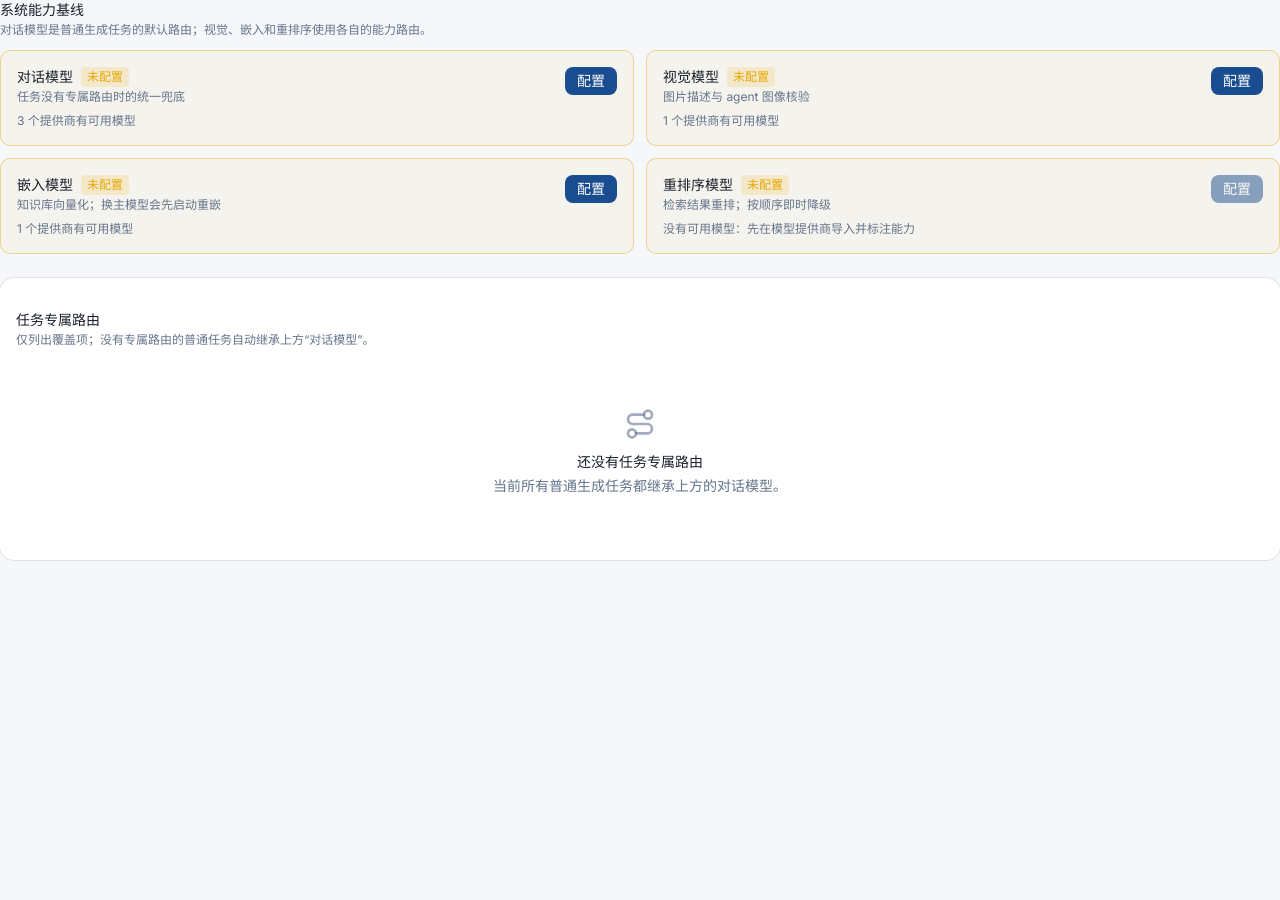
Test case: AdminModelsPage system capability boards › shows model capabilities in the catalog selector without free-text input
Expected: the button "配置" in the row of "知识库向量化；换主模型会先启动重嵌" is enabled, [565,175,617,203]
Click the button "配置" in the row of "图片描述与 agent 图像核验": (1237, 81) [1211,67,1263,95]
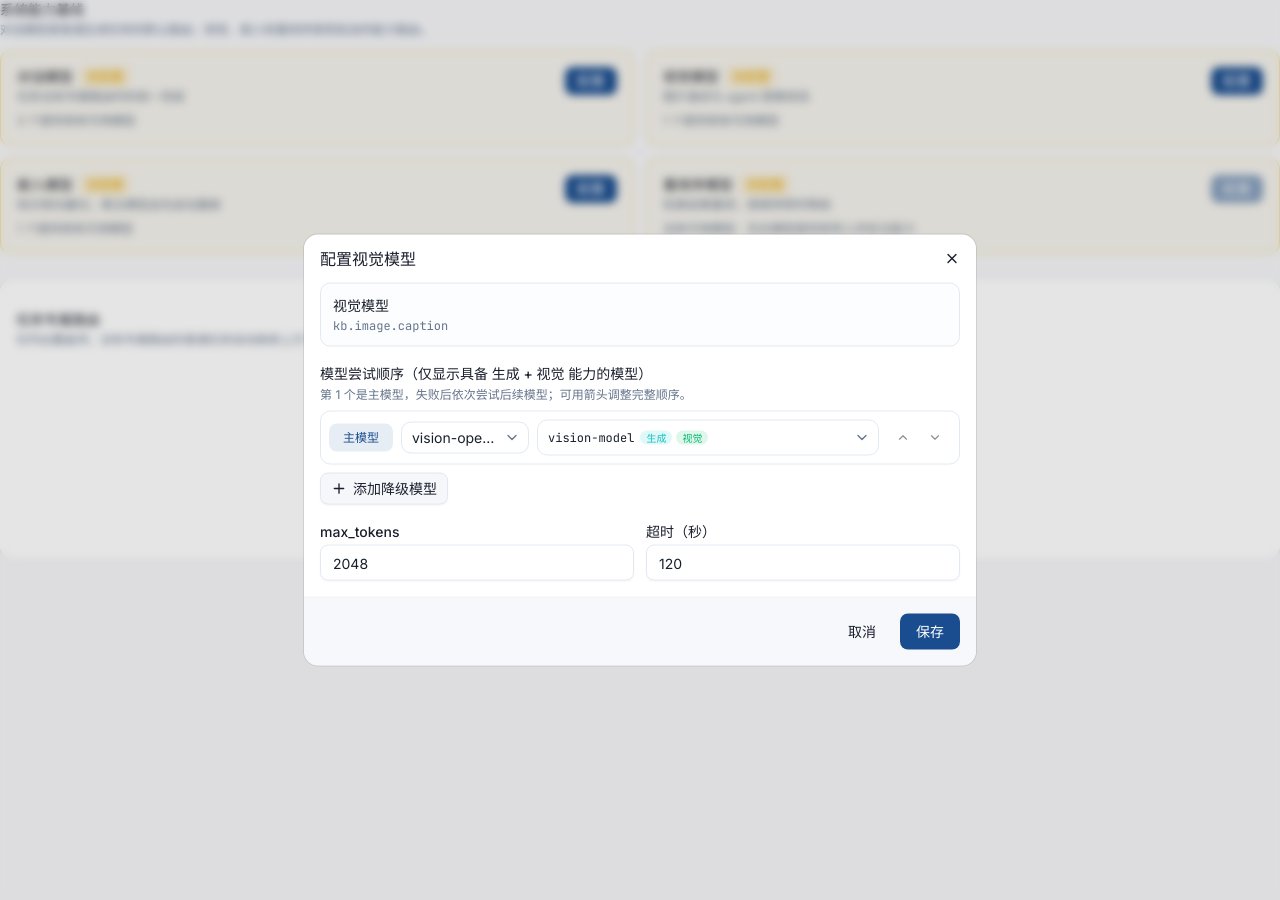
Click the dropdown named "主模型选择": (708, 438) [537,420,879,456]
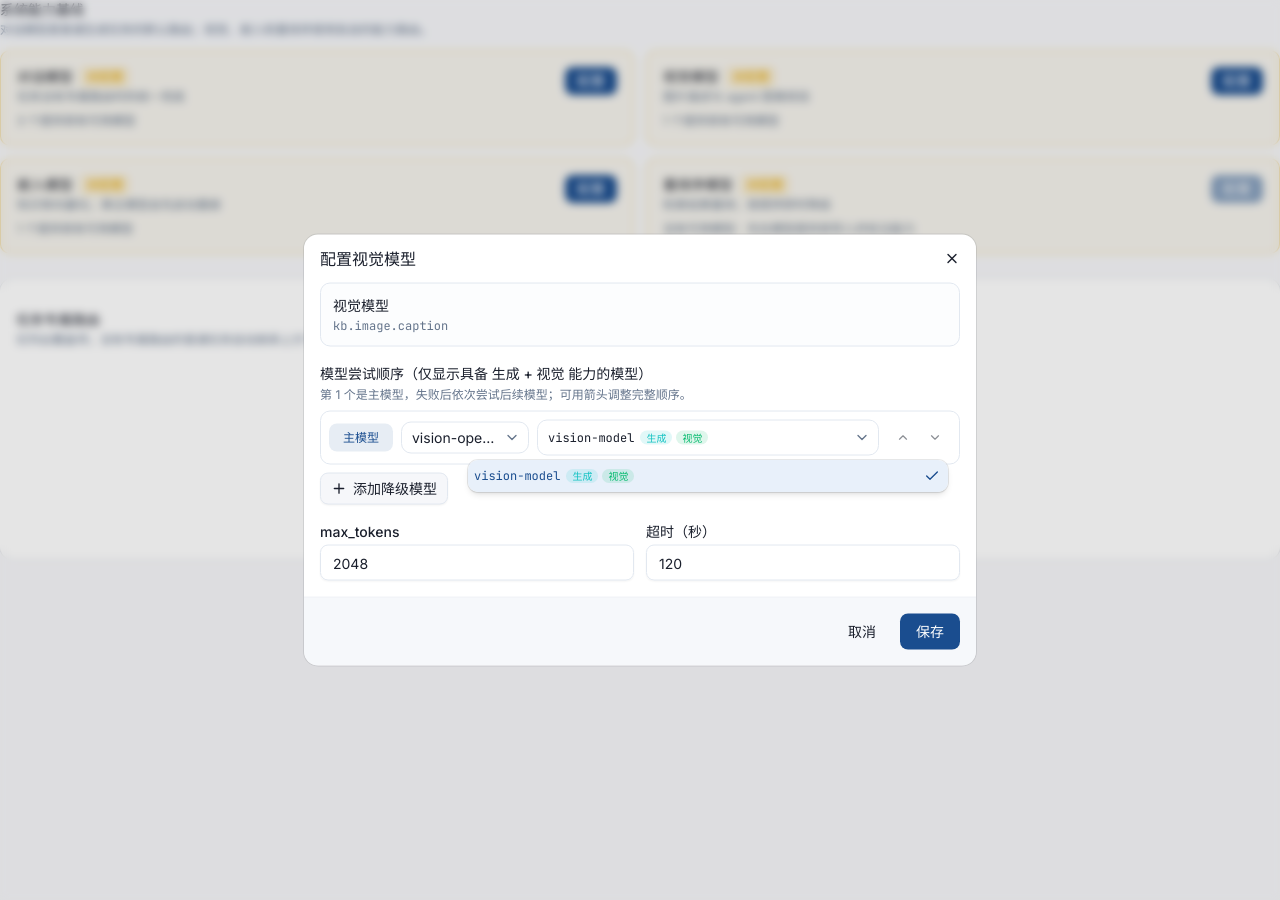
Expected: the 2nd text "生成" is shown, [566,469,598,483]
Expected: the 2nd text "视觉" is shown, [602,469,634,483]
